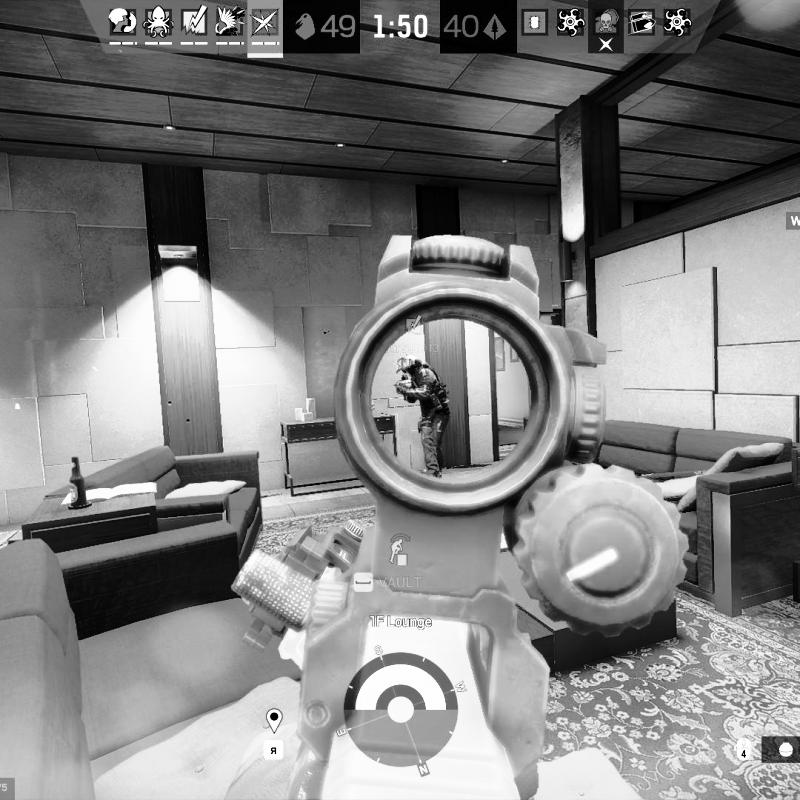Character: (393, 353, 453, 486)
Friend_label: (388, 314, 439, 353)
Head: (396, 354, 421, 376)
